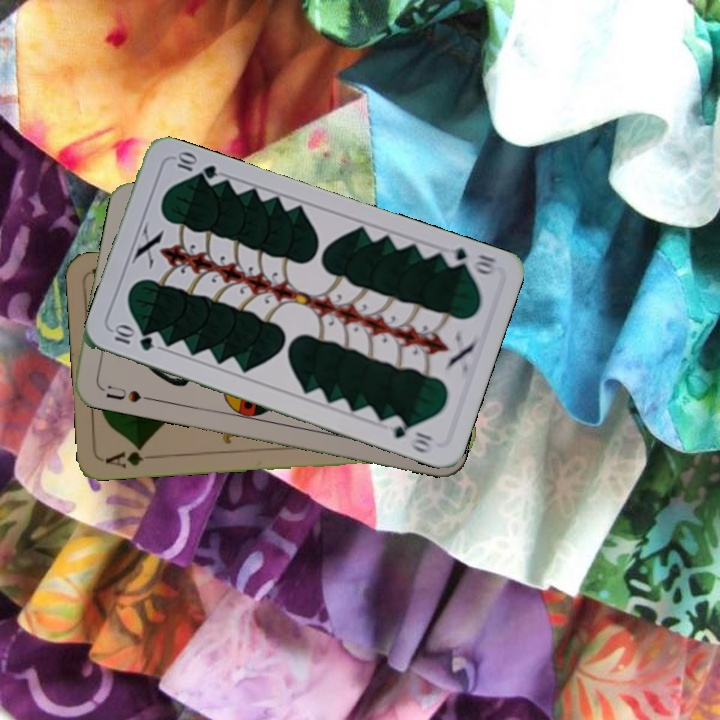G10: (439, 243, 500, 278), (110, 322, 156, 354)
GA: (101, 442, 161, 471)
SU: (102, 381, 155, 405)
